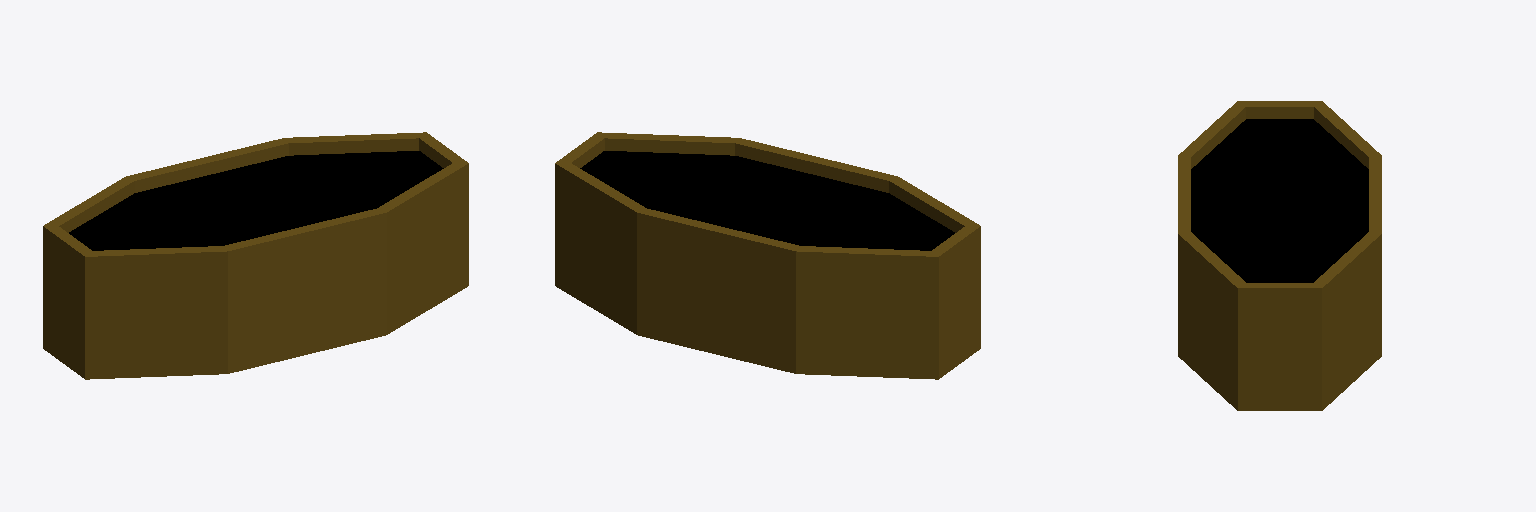
Rendered from VSF.obj.
3 views of the same model, side by side, from view 1: azimuth 30°, elevation 25°; view 2: azimuth 150°, elevation 25°; view 3: azimuth 270°, elevation 25° (orthographic).
Parts seen in each view (by area): view 1: path450_1, path450; view 2: path450_1, path450; view 3: path450_1, path450.
Part boxes in pixels (left/top/right/bottom): path450_1: left=43, top=132, right=468, bottom=379; path450: left=69, top=151, right=443, bottom=250; path450_1: left=555, top=132, right=980, bottom=379; path450: left=580, top=151, right=954, bottom=250; path450_1: left=1178, top=101, right=1381, bottom=410; path450: left=1191, top=119, right=1368, bottom=282.
Size of the model in its own units: 0.0194 by 0.0059 by 0.009.